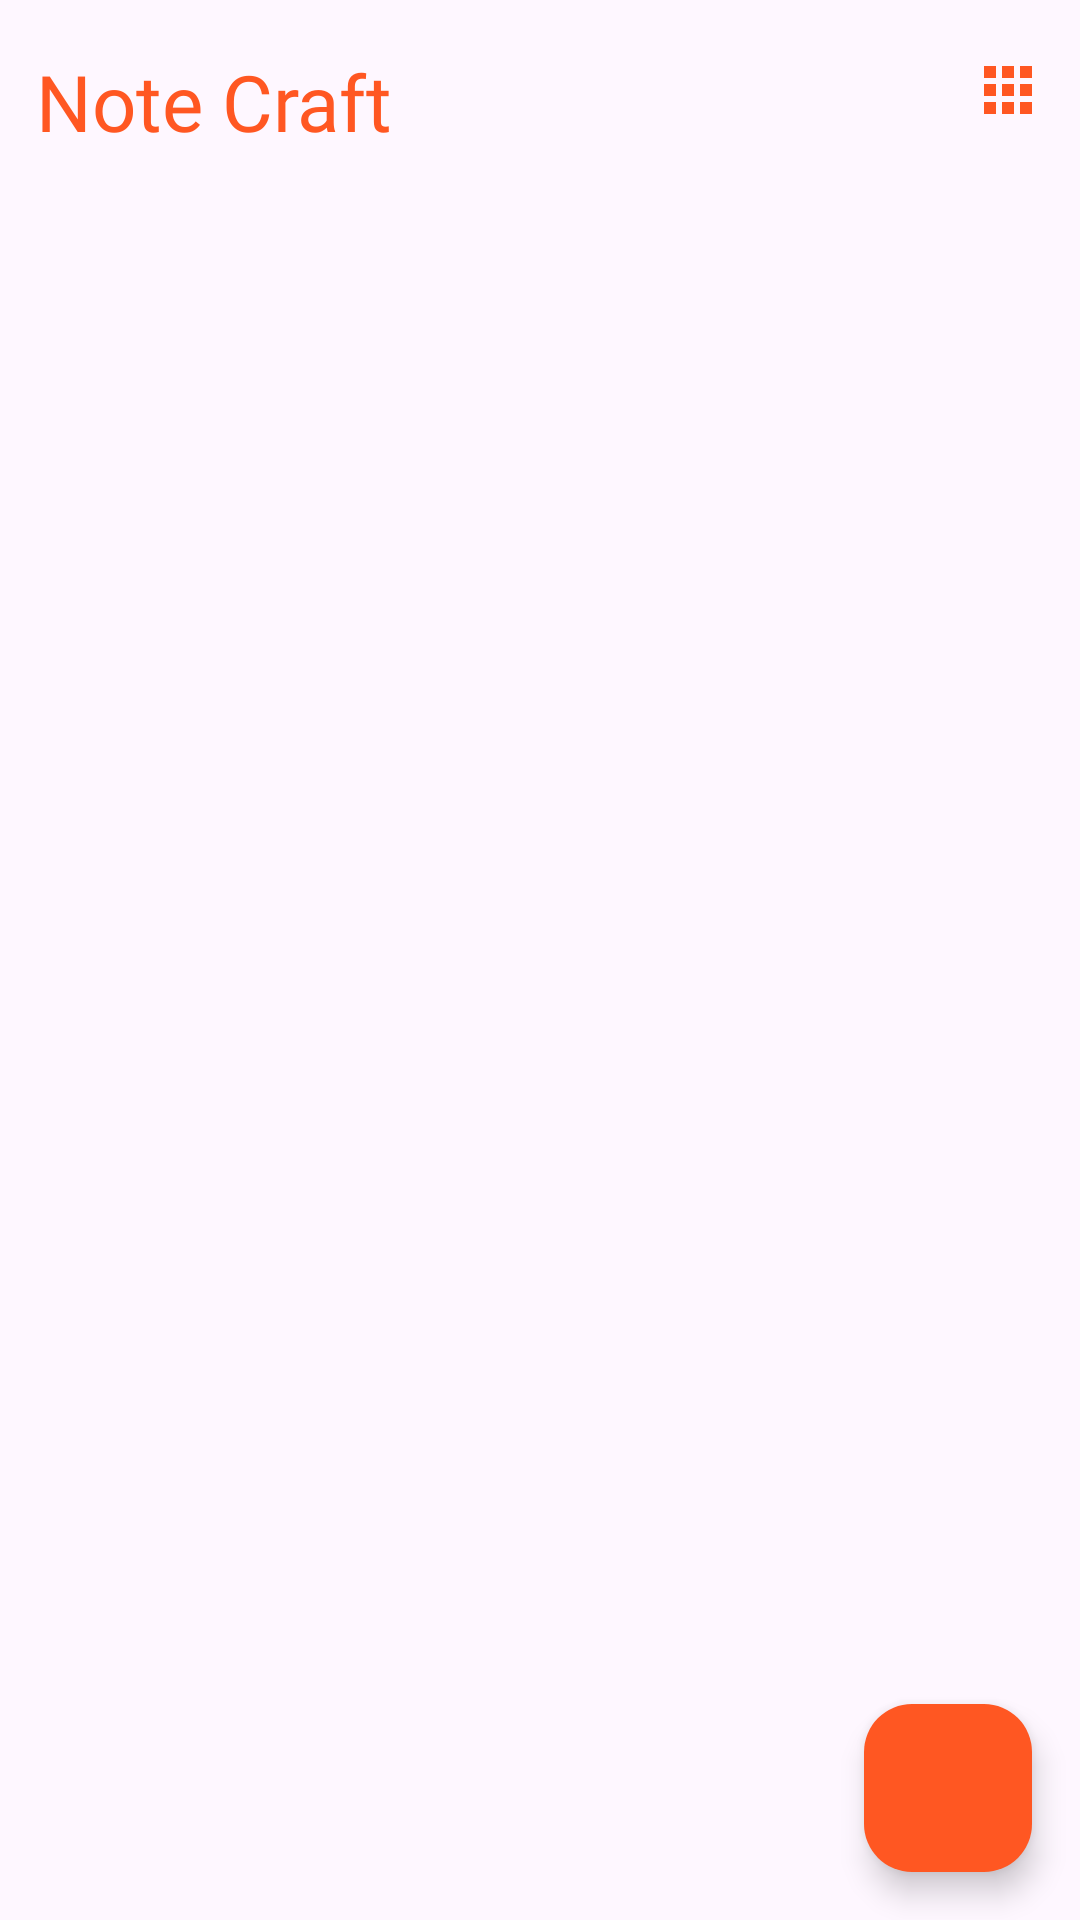

Icon bounding boxes for this 1080px x 1920px phone screenshot, format BBox(x1, y1, x2, y2):
apps: BBox(984, 66, 1032, 114)
